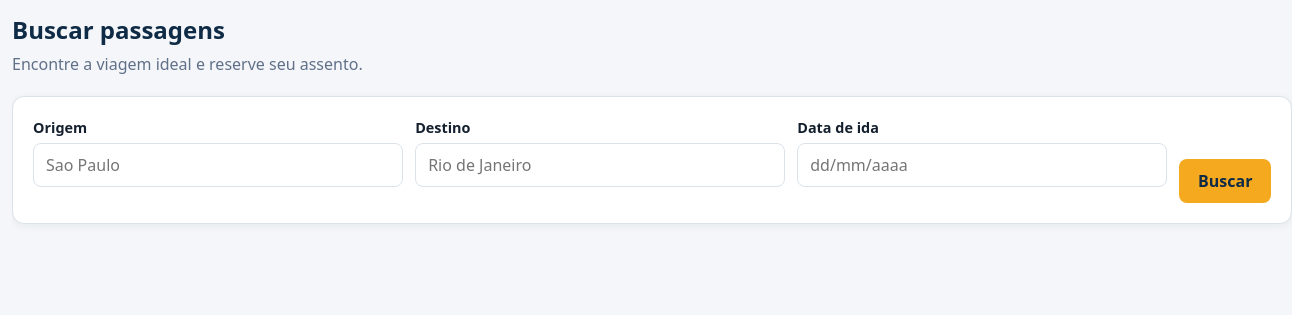
it: SearchPage › shows an empty state when there are no results
The width and height of the screenshot is (1292, 315).
Click the button "Buscar": {"x": 1225, "y": 181} [1179,159,1271,203]
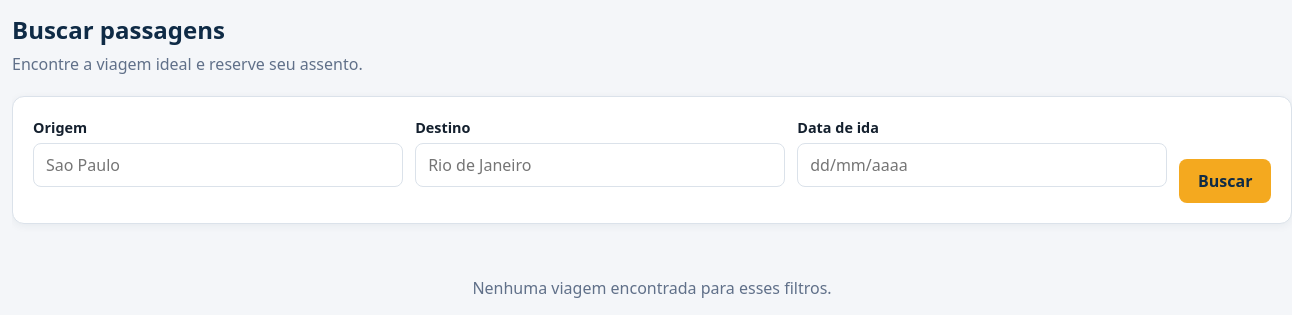
expect the text "Nenhuma viagem encontrada para esses filtros." is shown: met, box [472,277,832,299]
